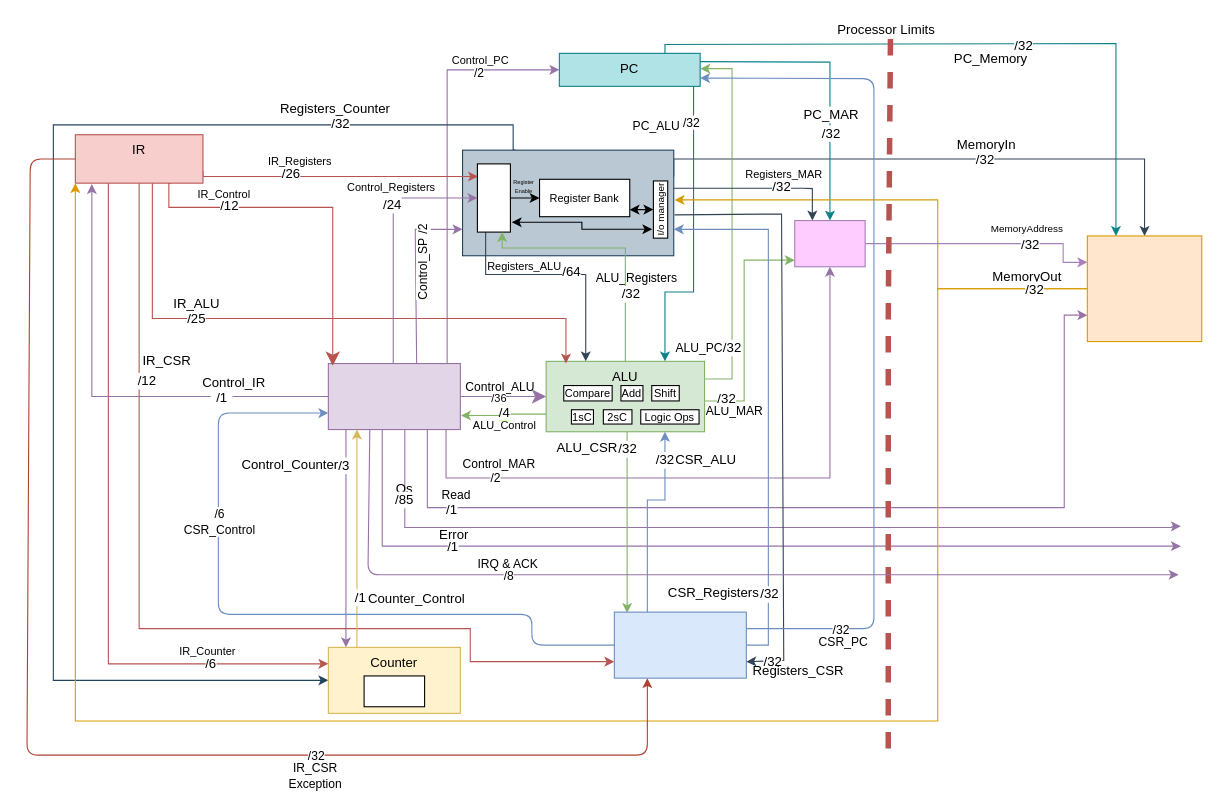
Some shapes in this 1221 by 809 pixel diagram are drawn without their labels. Here are the shapes that lost their labels. From the top down, the box of each, then its label:
(476, 163, 510, 232): Adress decoder
(461, 149, 674, 256): Registers
(794, 219, 865, 267): MAR
(1086, 235, 1202, 342): Memory
(327, 362, 460, 430): Control
(613, 611, 746, 678): CSRs
(363, 675, 425, 707): Incremental counter
